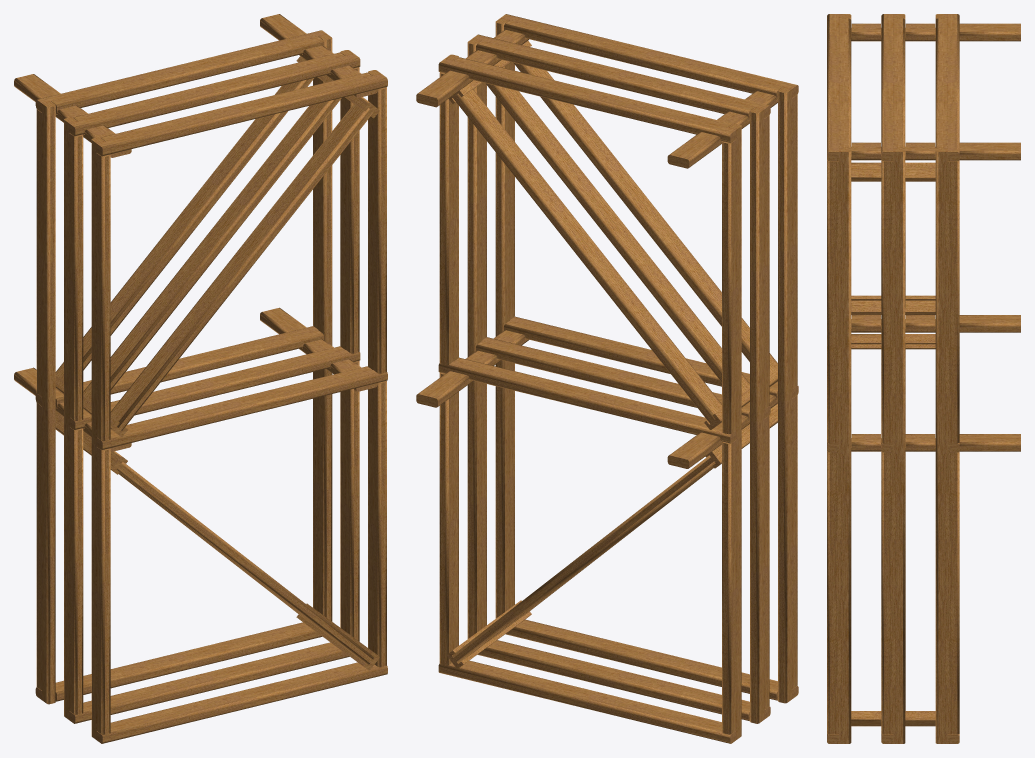
File: VCKA0060_VCKC0060.glb
3 views of the same model, side by side, from view 1: azimuth 30°, elevation 25°; view 2: azimuth 150°, elevation 25°; view 3: azimuth 270°, elevation 25° (orthographic). The views are drawn at different scales.
Parts seen in each view (by area): view 1: G-Difference.028, G-Difference.027; view 2: G-Difference.028, G-Difference.027; view 3: G-Difference.028, G-Difference.027.
Part boxes in pixels (x1,y1,x2,y2): G-Difference.028: (14,14,387,743); G-Difference.027: (55,56,379,670); G-Difference.028: (416,14,798,743); G-Difference.027: (447,40,777,668); G-Difference.028: (827,14,1020,743); G-Difference.027: (851,162,935,726).
Bounding box in the file's own units: 0.406 × 0.812 × 0.241.
Materials: 2 (2 with a texture image).
